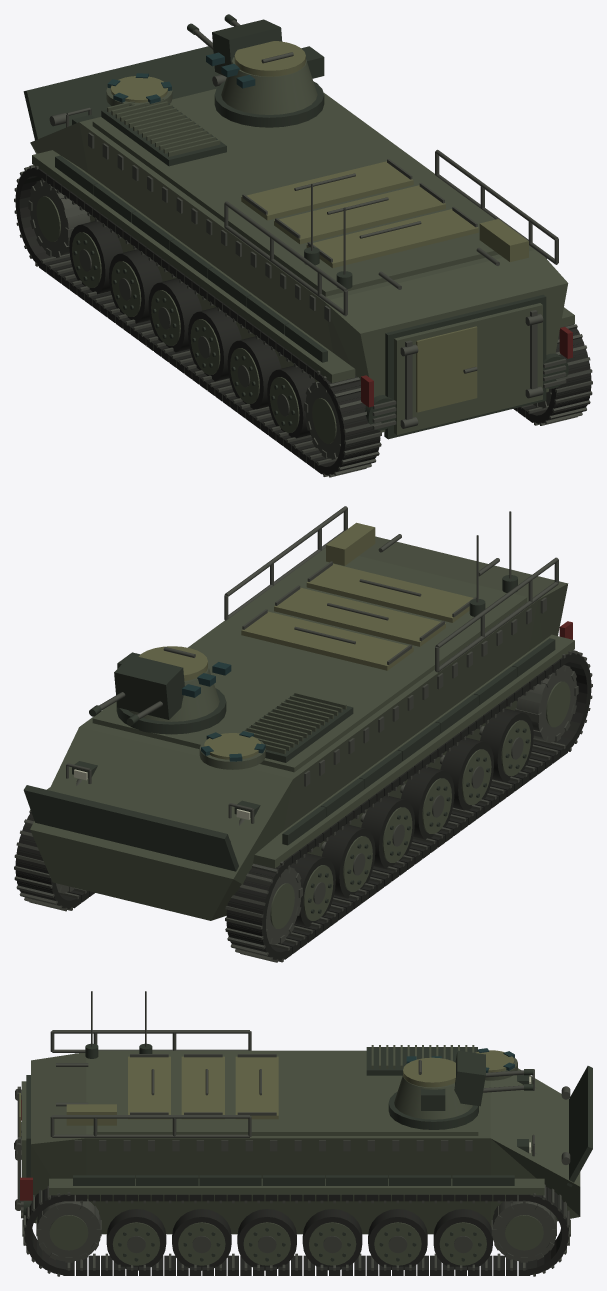
The model's file is kaav-reference.glb.
The picture shows the model from 3 angles, top to bottom: view 1: azimuth 30°, elevation 25°; view 2: azimuth 150°, elevation 25°; view 3: azimuth 270°, elevation 25°; orthographic projection. The views are drawn at different scales.
Parts seen in each view (by area): view 1: olive, light, steel, rubber, dark, glass, red; view 2: olive, rubber, dark, steel, light, glass; view 3: olive, rubber, steel, dark, light.
Part boxes in pixels (left/top/right/bottom): olive: left=30, top=57, right=574, bottom=443; light: left=110, top=41, right=528, bottom=412; steel: left=14, top=20, right=592, bottom=477; rubber: left=15, top=167, right=591, bottom=475; dark: left=23, top=14, right=568, bottom=439; glass: left=107, top=52, right=255, bottom=103; red: left=361, top=327, right=572, bottom=407; olive: left=30, top=536, right=574, bottom=928; rubber: left=15, top=652, right=591, bottom=960; dark: left=23, top=575, right=555, bottom=913; steel: left=14, top=506, right=592, bottom=962; light: left=138, top=522, right=473, bottom=759; glass: left=182, top=662, right=265, bottom=761; olive: left=21, top=1045, right=580, bottom=1265; rubber: left=24, top=1187, right=568, bottom=1275; steel: left=14, top=991, right=570, bottom=1276; dark: left=23, top=1043, right=592, bottom=1261; light: left=19, top=1050, right=514, bottom=1136.
Bounding box in the file's own units: 3.28 × 3.11 × 8.06.
